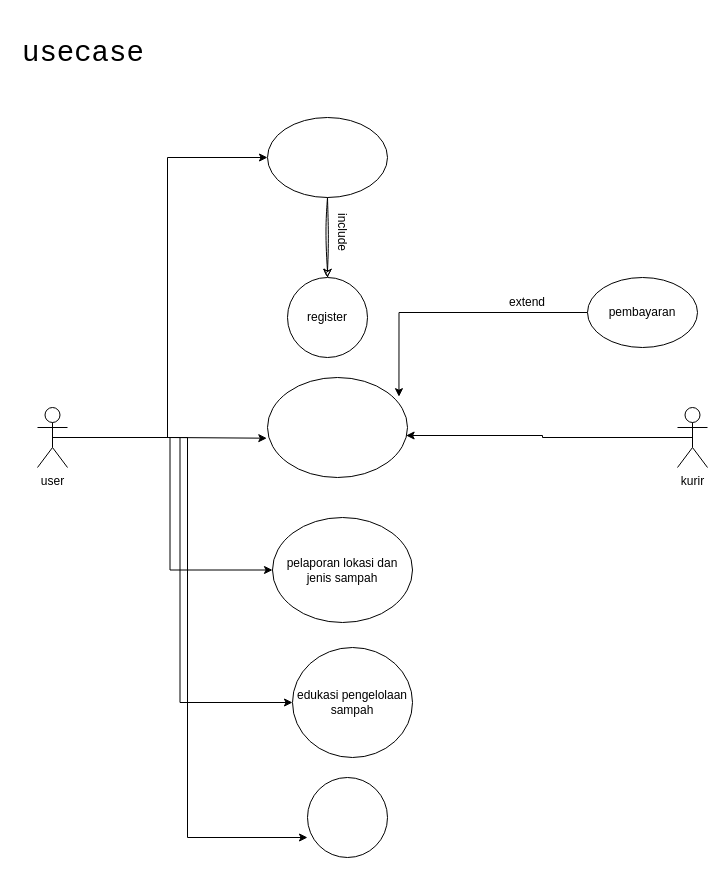
Some shapes in this 725 by 875 pixel diagram are drawn without their labels. The shapes that lost their labels are listed below. From the top down, each one's centre as x and y in pixels, then its label:
[327,157]: Login
[337,427]: Pemesanan pengambilan sampah
[347,817]: riwayat penggunaan aplikasi
